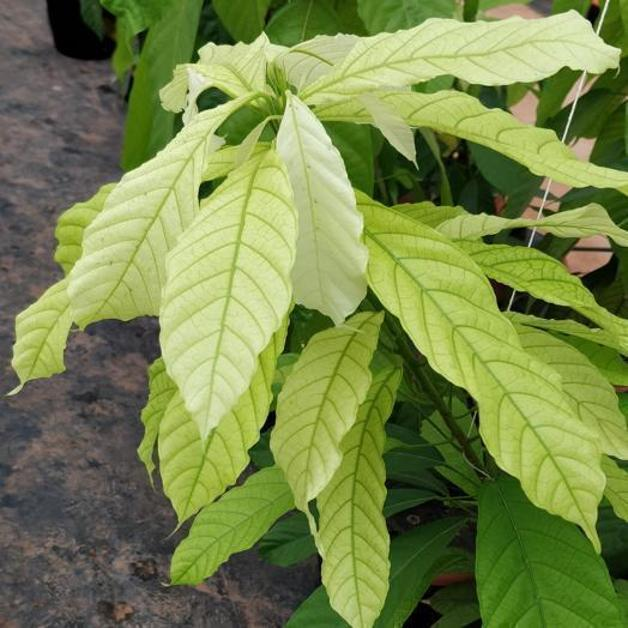Iron: (359, 197, 604, 549), (68, 100, 245, 327), (160, 149, 297, 438), (301, 11, 619, 103), (270, 313, 383, 525), (316, 360, 402, 627), (277, 92, 367, 323)
